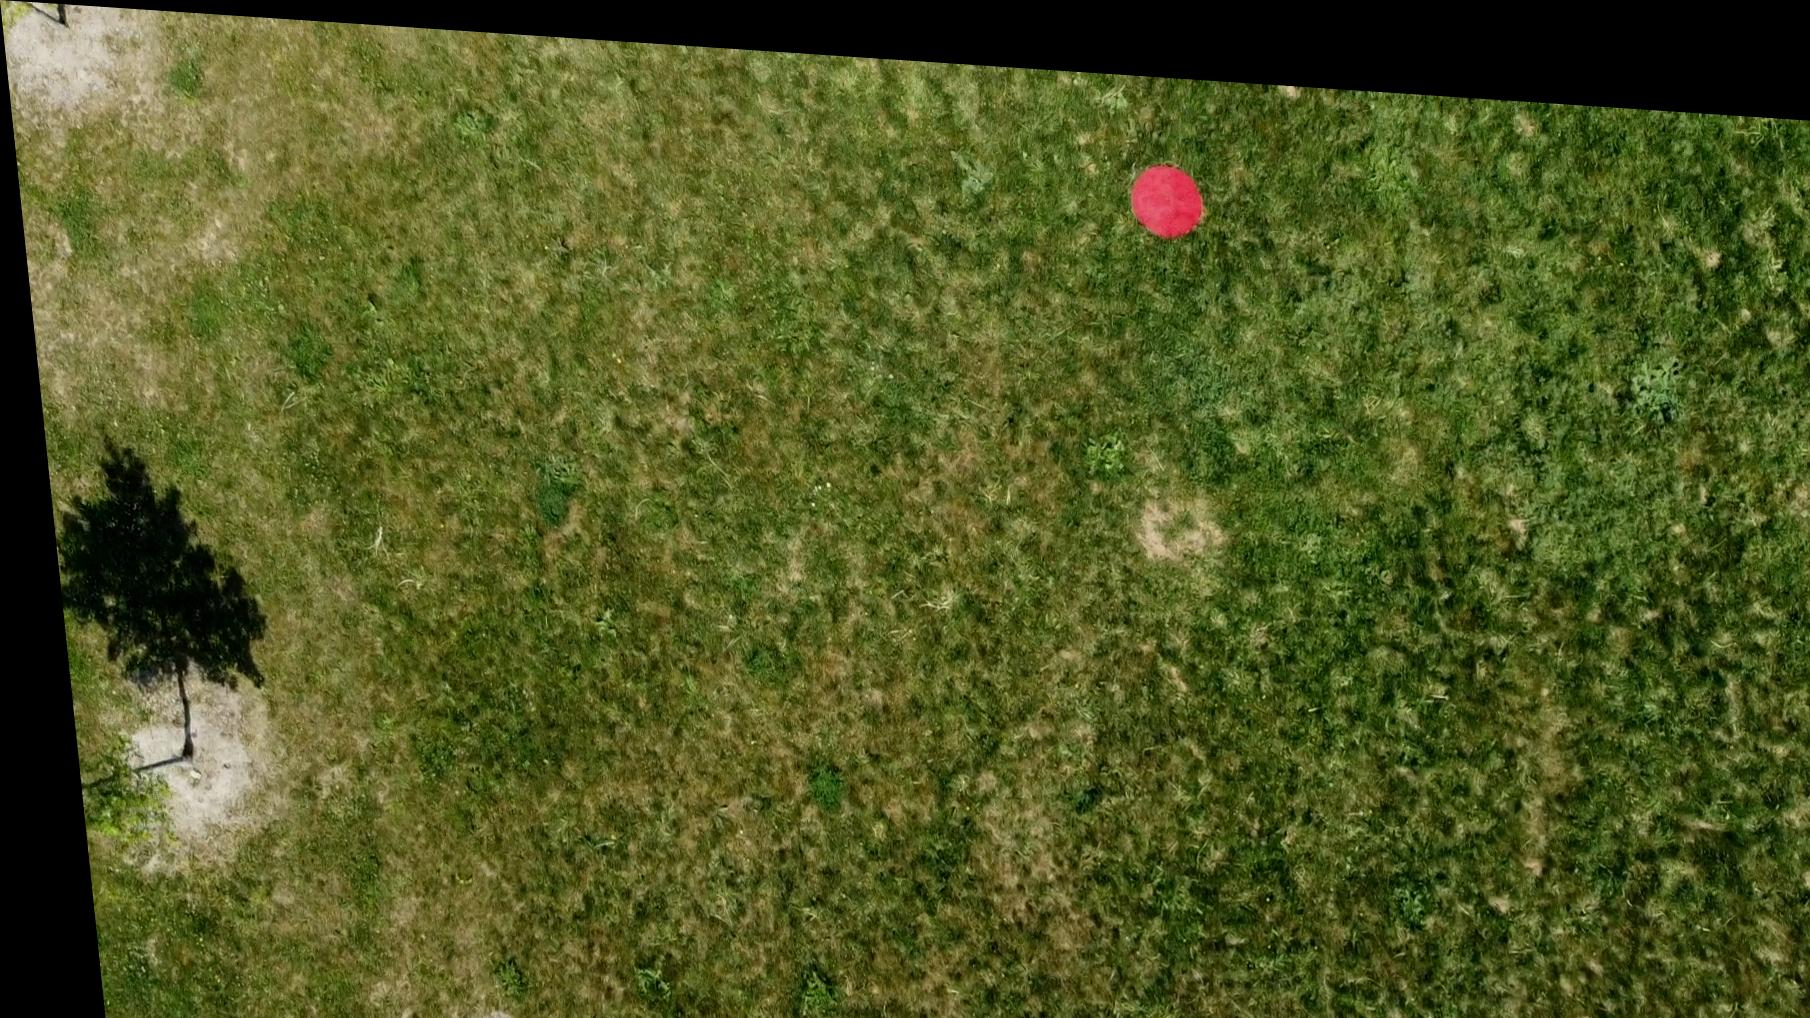Red: (1123, 144, 1208, 227)
